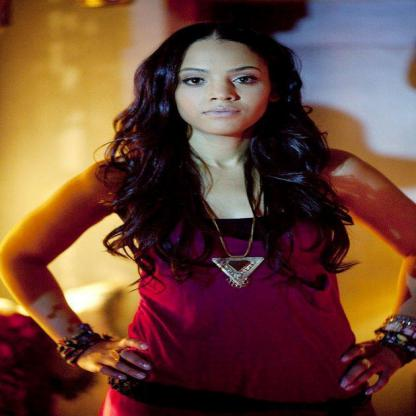long-hair: (89, 132, 361, 177)
